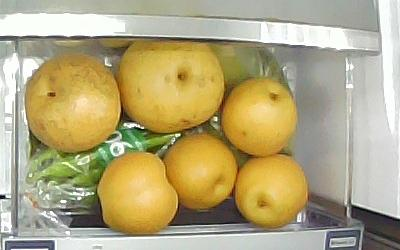pear: (117, 40, 225, 135), (25, 51, 121, 155), (98, 151, 179, 236), (223, 78, 296, 158), (234, 155, 308, 230), (164, 134, 236, 211)
